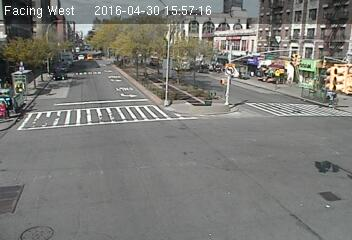neg: (51, 133, 89, 184), (260, 84, 293, 127), (112, 122, 144, 164), (171, 113, 200, 151), (151, 75, 175, 107), (127, 43, 151, 75), (270, 38, 294, 70), (300, 159, 324, 191), (216, 75, 239, 106), (192, 194, 215, 225), (82, 96, 104, 125), (141, 173, 163, 201), (16, 56, 35, 82), (250, 155, 268, 179), (212, 27, 229, 49), (75, 61, 91, 83)
